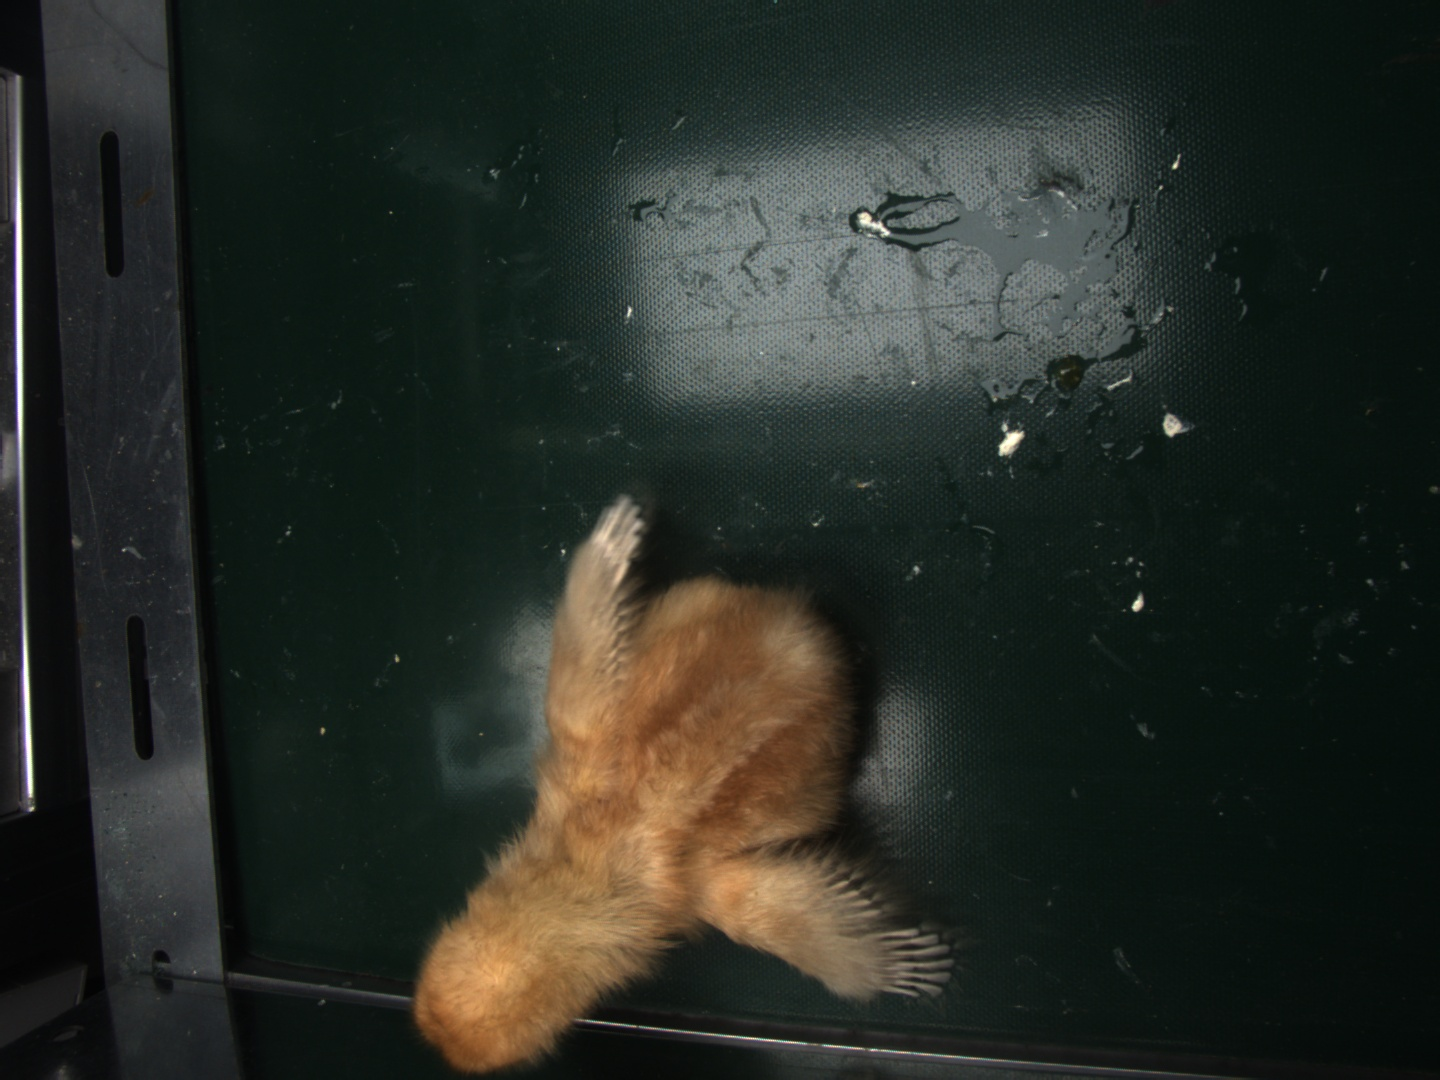female: (876, 928, 956, 999)
